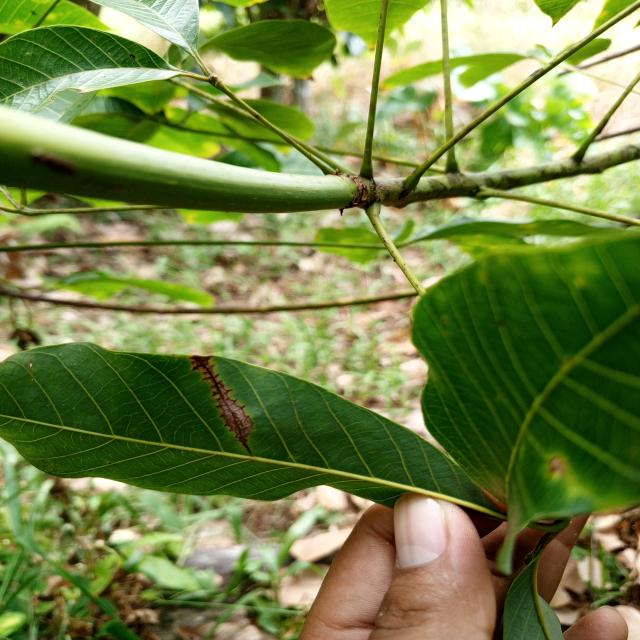Corynespora: (188, 356, 255, 455)
